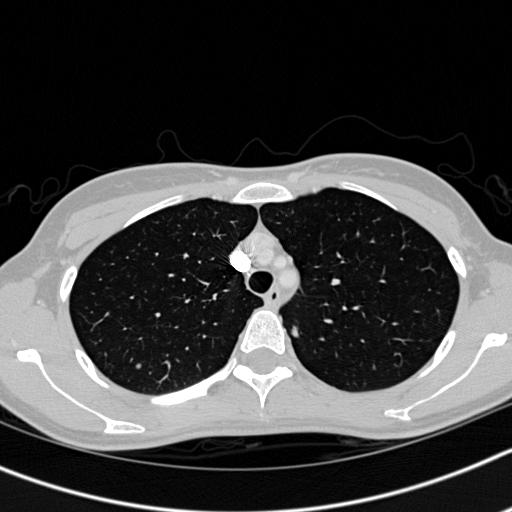nodule: (288, 325, 302, 339)
